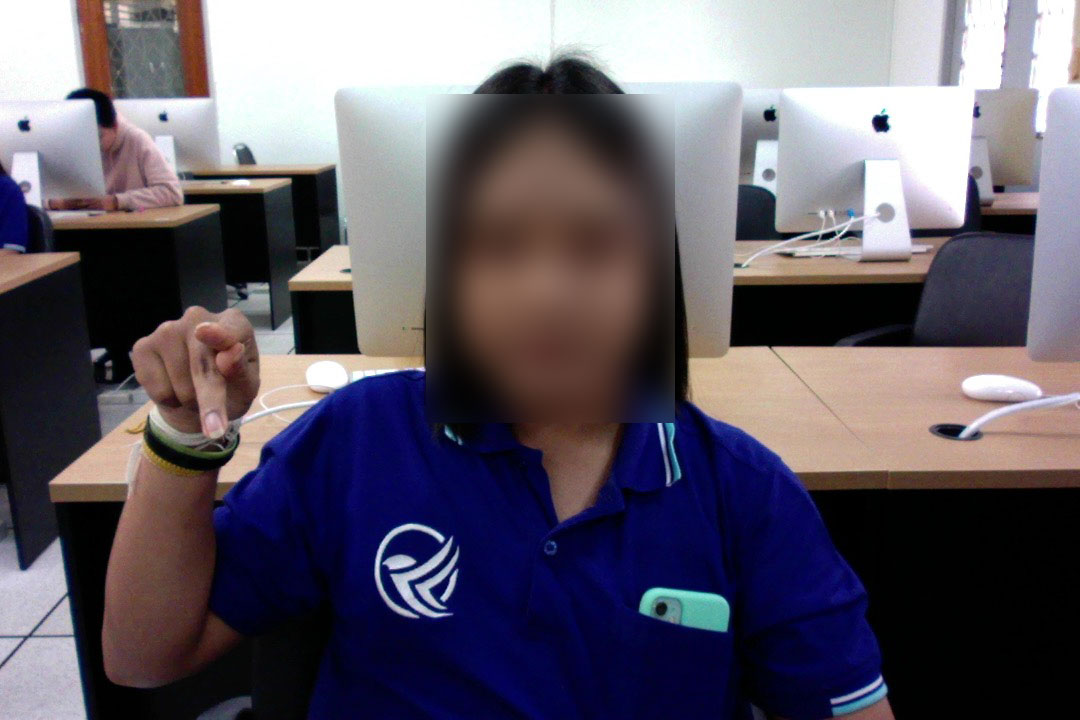por: (127, 290, 266, 445)
